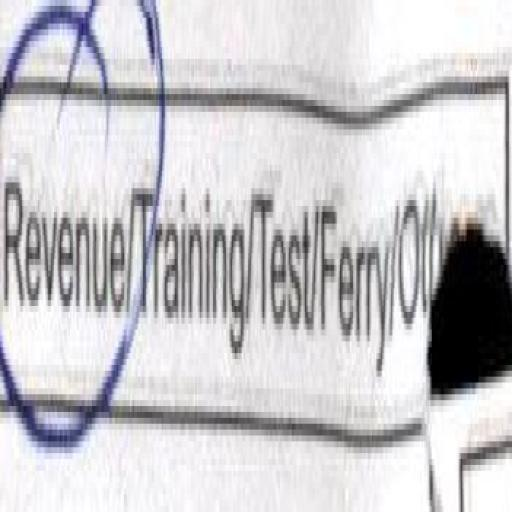check: (0, 0, 133, 453)
